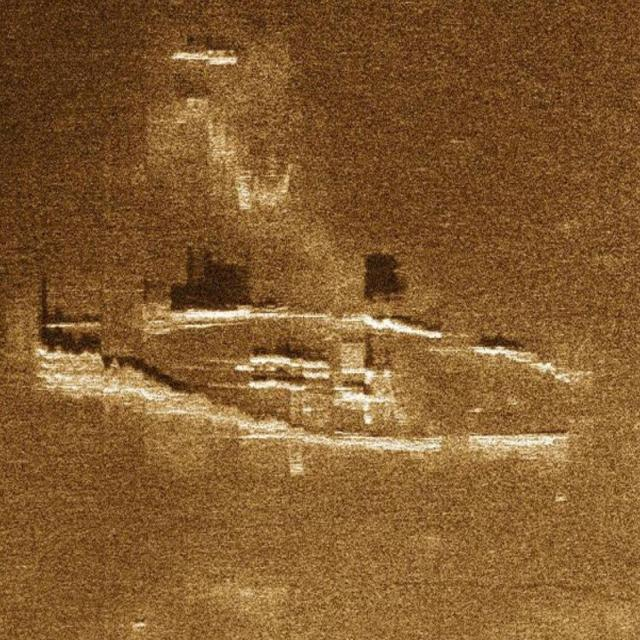ship: (34, 296, 592, 462)
